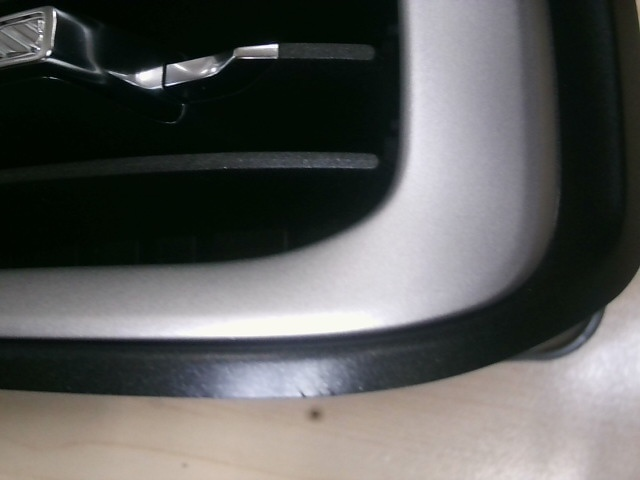NG: (288, 372, 352, 407)
